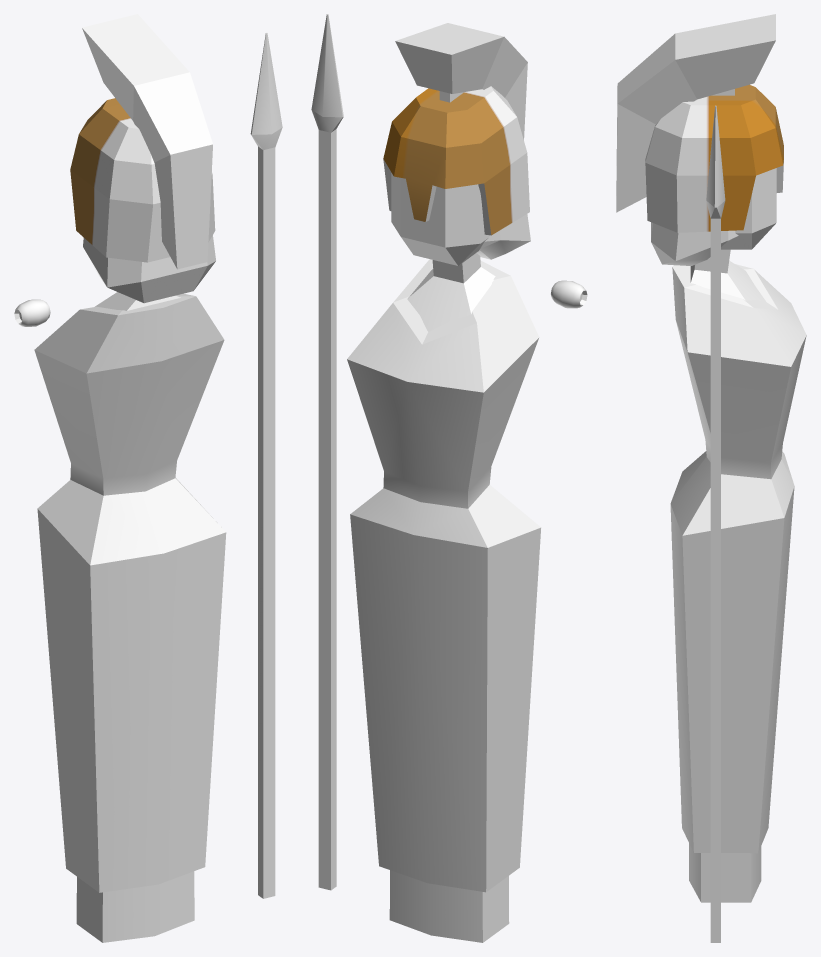
File: Athena.fbx
3 renders of one model, left to right at view 1: azimuth 30°, elevation 25°; view 2: azimuth 150°, elevation 25°; view 3: azimuth 270°, elevation 25°, orthographic. The views are drawn at different scales.
Visible parts, largest first — view 1: Athena, Spear, Olive; view 2: Athena, Spear, Olive; view 3: Athena, Spear.
Boxes of the visible parts, x1,y1,x2,y2 form: Athena: (34, 14, 226, 942); Spear: (250, 32, 282, 898); Olive: (14, 299, 50, 326); Athena: (347, 23, 541, 942); Spear: (311, 14, 343, 890); Olive: (551, 280, 587, 308); Athena: (616, 14, 806, 902); Spear: (706, 105, 725, 942).
Bounding box in the file's own units: 52.7 × 167 × 33.76.
1 material, 1 textured.
